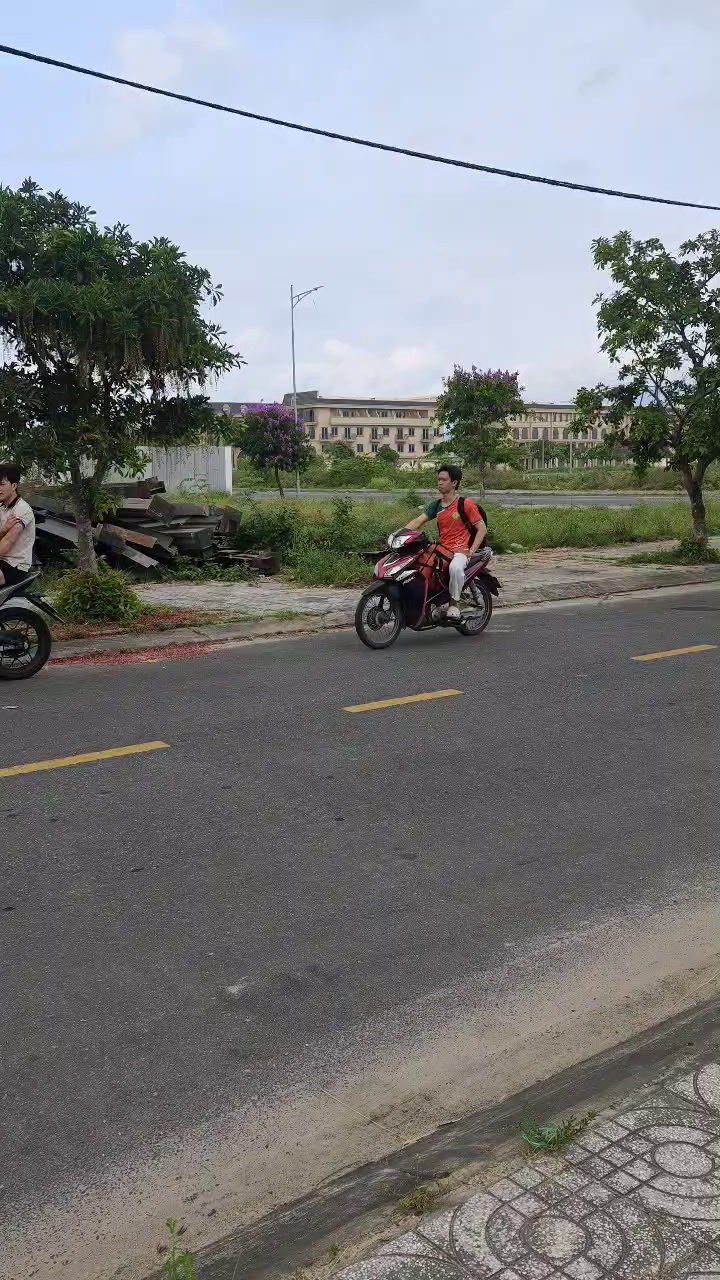no_helmet: (436, 464, 461, 505)
